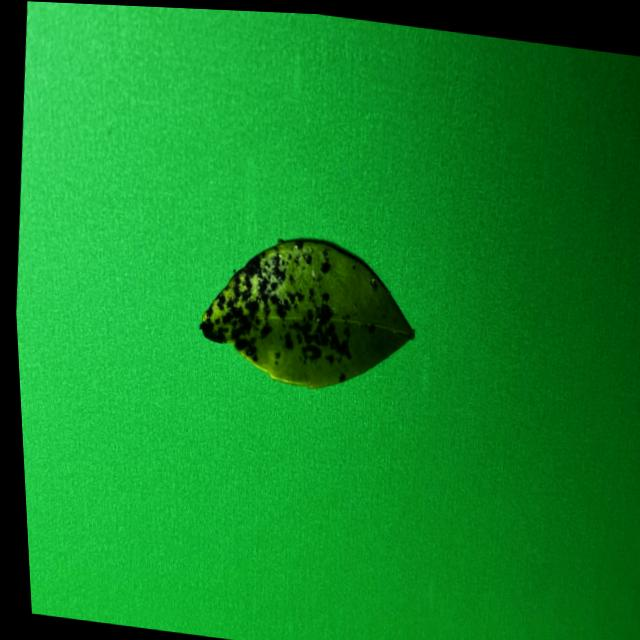sooty_mold: (200, 238, 413, 387)
